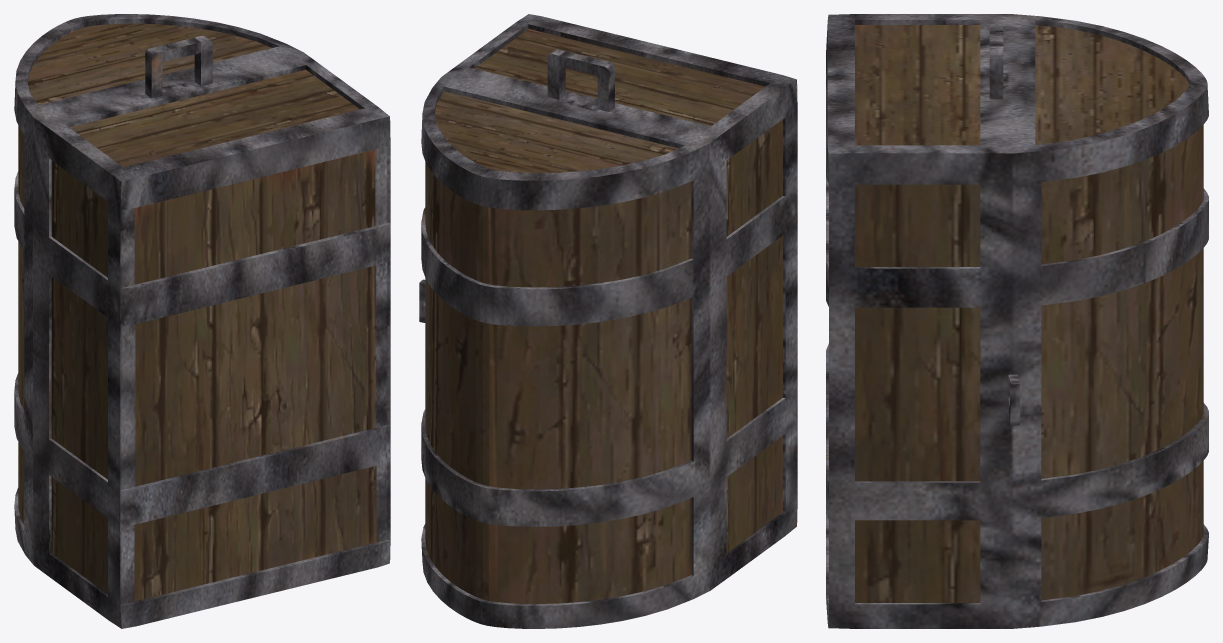
File: Truhe_v2.fbx
3 views of the same model, side by side, from view 1: azimuth 30°, elevation 25°; view 2: azimuth 150°, elevation 25°; view 3: azimuth 270°, elevation 25° (orthographic). The views are drawn at different scales.
Visible parts, largest first — view 1: Bezier-Kurve; view 2: Bezier-Kurve; view 3: Bezier-Kurve.
Boxes of the visible parts, x1=… form: Bezier-Kurve: x1=14, y1=14, x2=390, y2=628; Bezier-Kurve: x1=419, y1=14, x2=797, y2=628; Bezier-Kurve: x1=826, y1=14, x2=1208, y2=628.
Bounding box in the file's own units: 224 × 397 × 242.
Materials: 1 (1 with a texture image).
